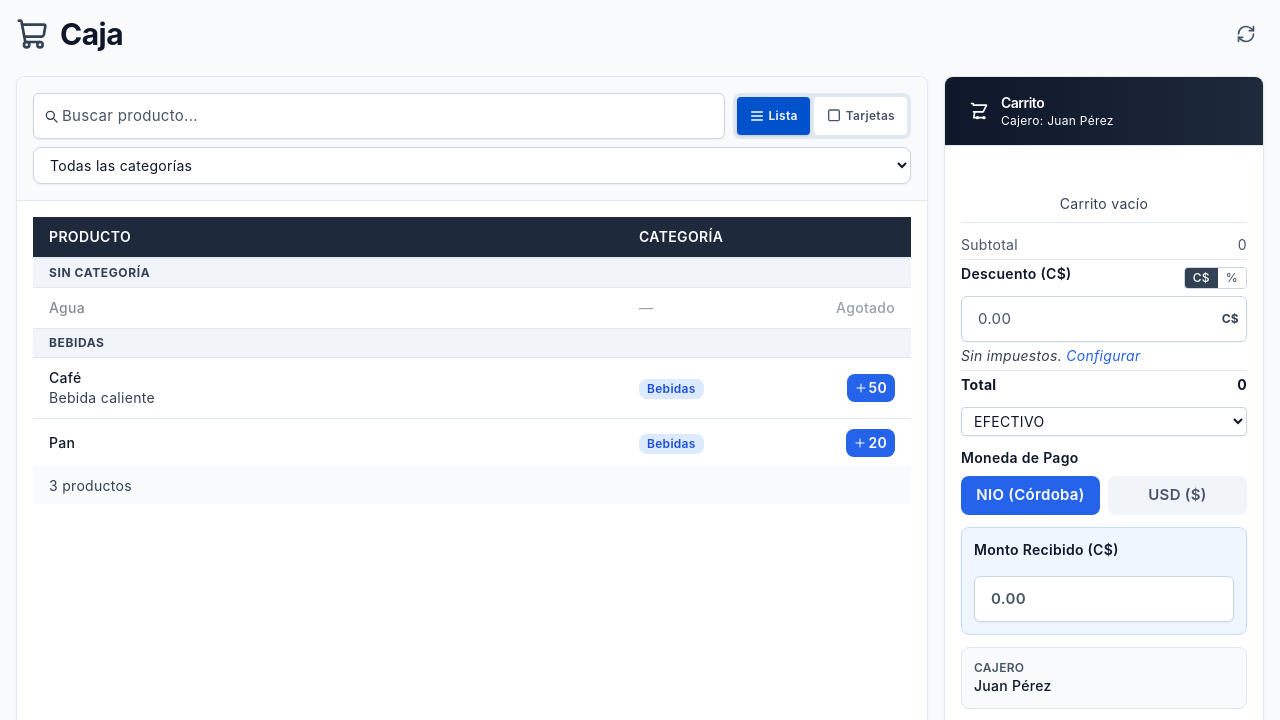
it: POSPage › Cart – removing products › removes an item when 'Eliminar' is clicked
This screenshot has width=1280, height=720.
Expected: the text "Café" is shown, [49,369,82,386]
Click the button "50" at (871, 388), box [847,374,895,402]
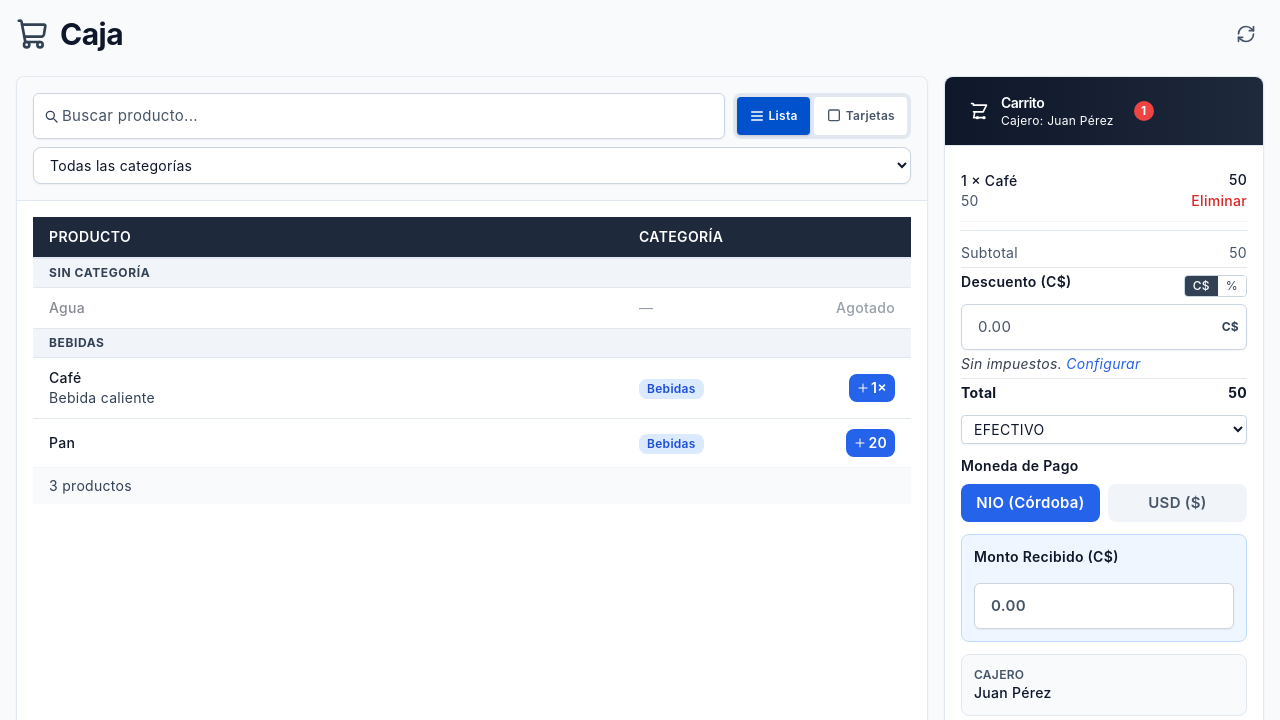
Expected: the text "1 × Café" is shown, [961,171,1017,191]
Click the button "Eliminar" at (1219, 201), box [1191,191,1247,211]
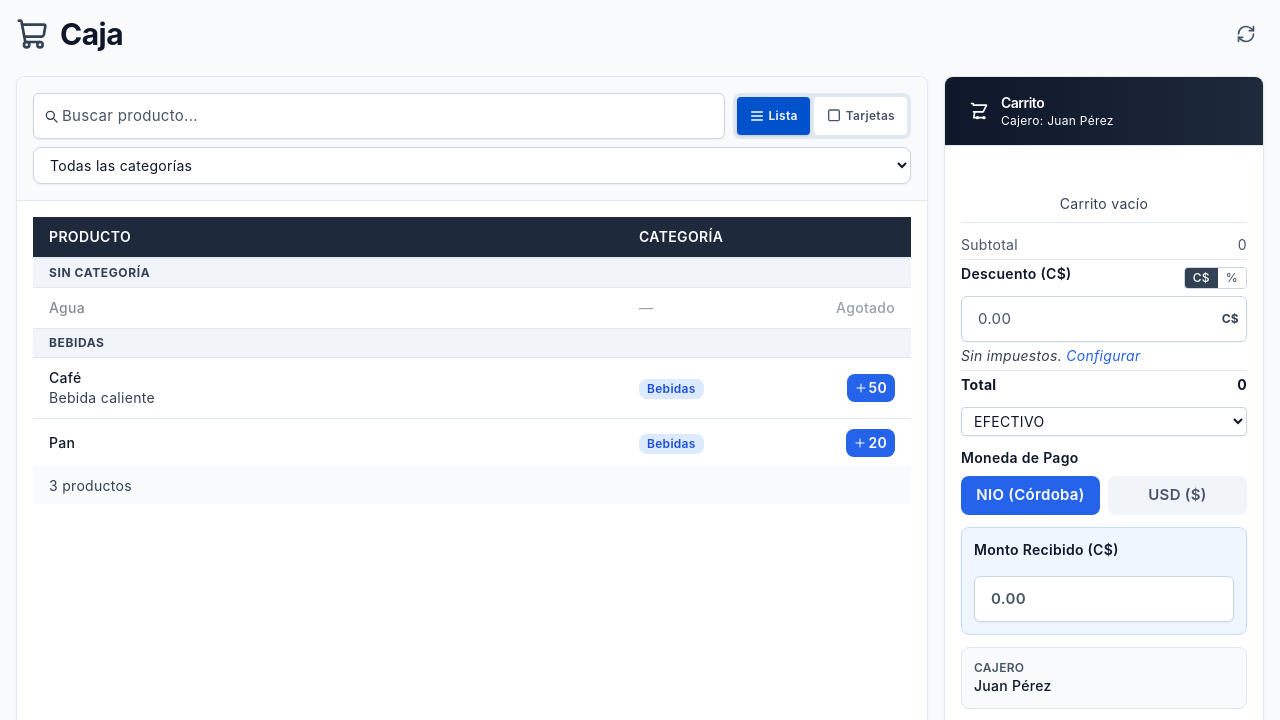
Expected: the text "1 × Café" is gone
Expected: the text "Carrito vacío" is shown, [1060,195,1148,212]
